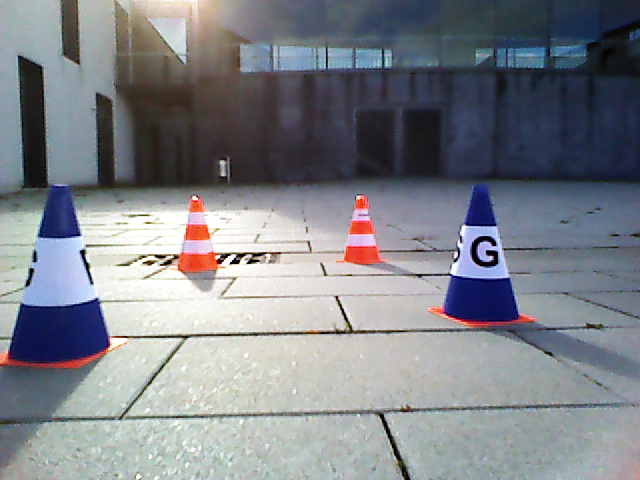bluecone: (4, 183, 110, 363), (442, 183, 521, 324)
orangeconesmall: (179, 195, 219, 270), (343, 193, 381, 261)
